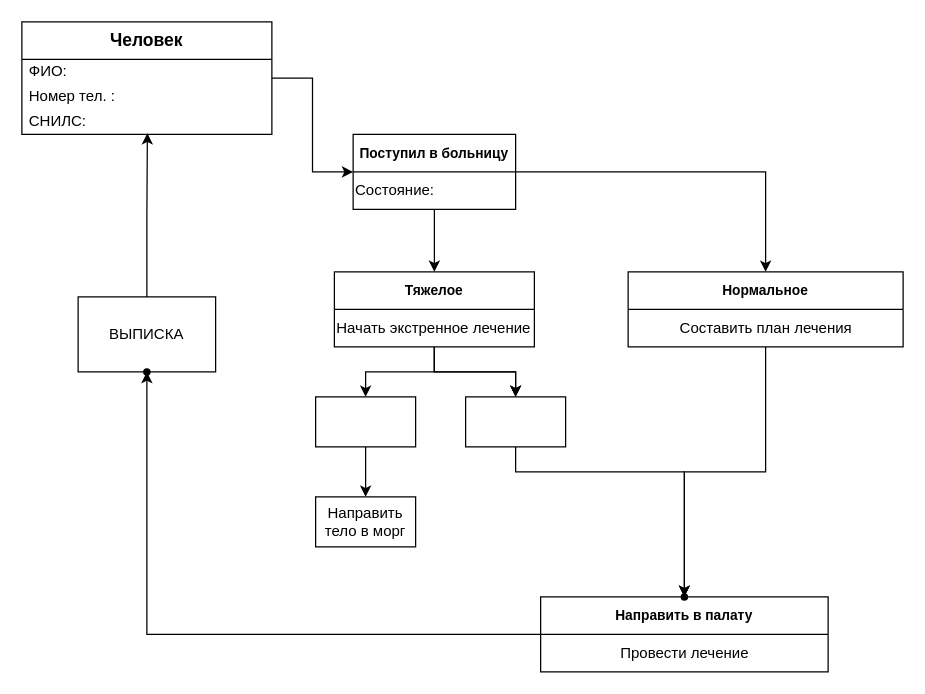
The diagram is 925 pixels wide and 694 high, and some of its shapes have lost their labels. Here are the shapes that lost their labels. From the top down, the centre of each, then its label:
At (x=365, y=421): "Умер".
At (x=515, y=421): "Выжил".
